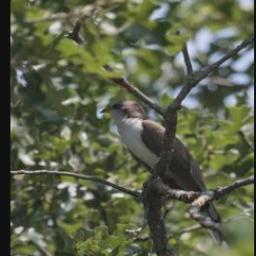Cuckoo: (98, 99, 238, 248)
